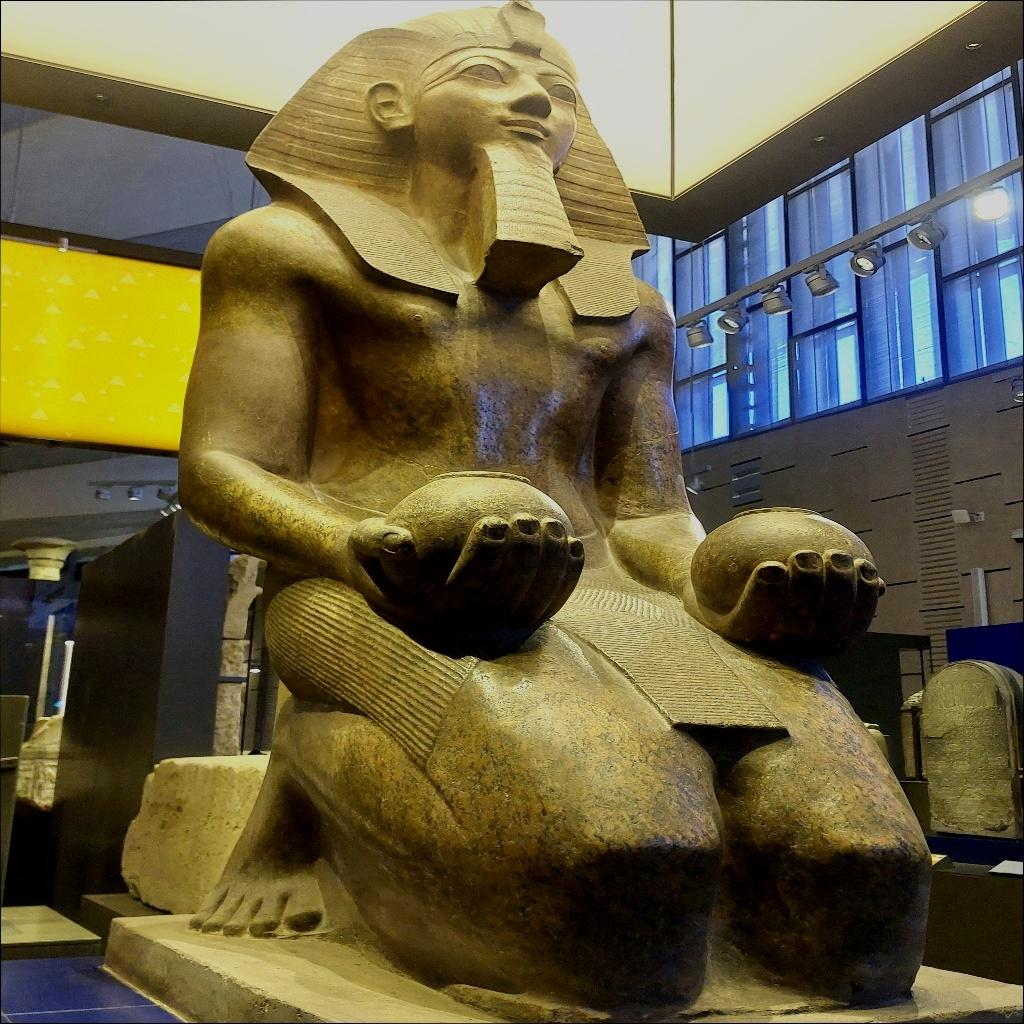kneeling statue of queen hatshibsut: (170, 4, 937, 1016)
